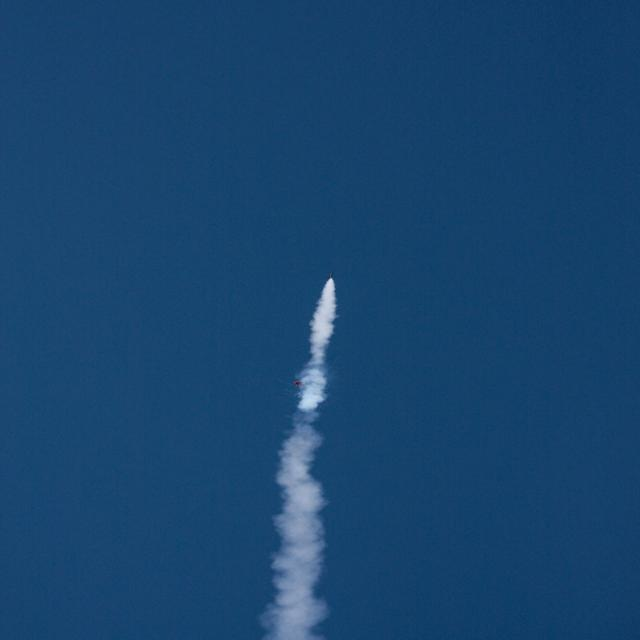Rocket: (326, 272, 334, 279)
